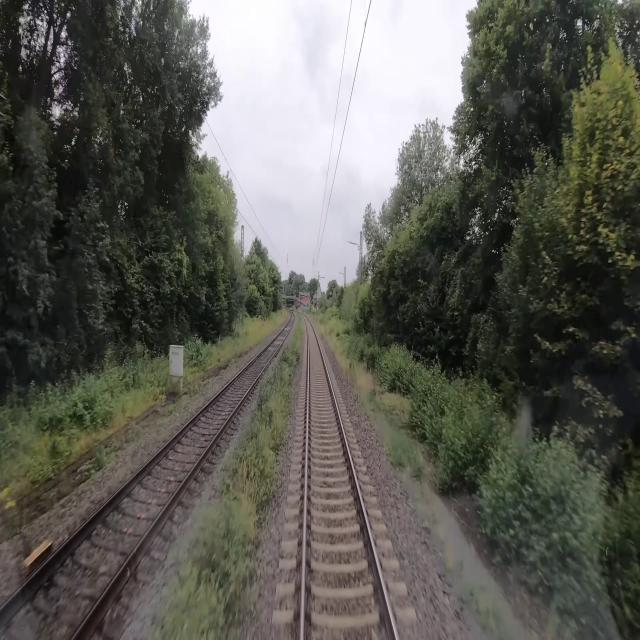Plant: (146, 316, 304, 639)
